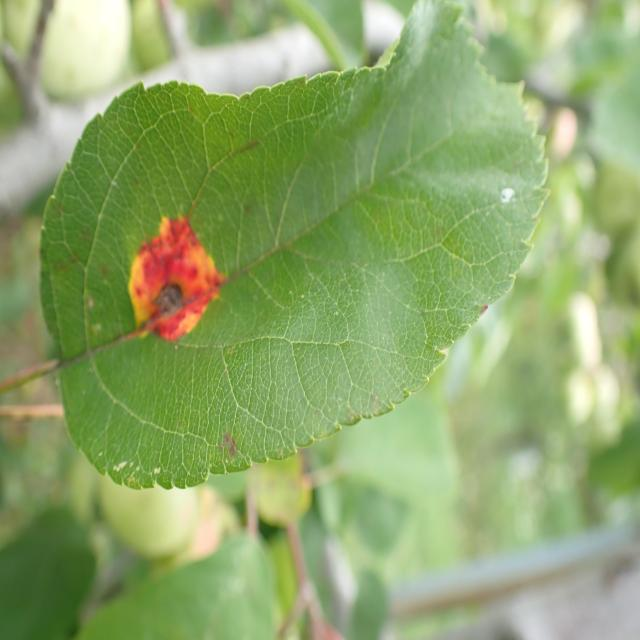Rust: (119, 211, 224, 372)
